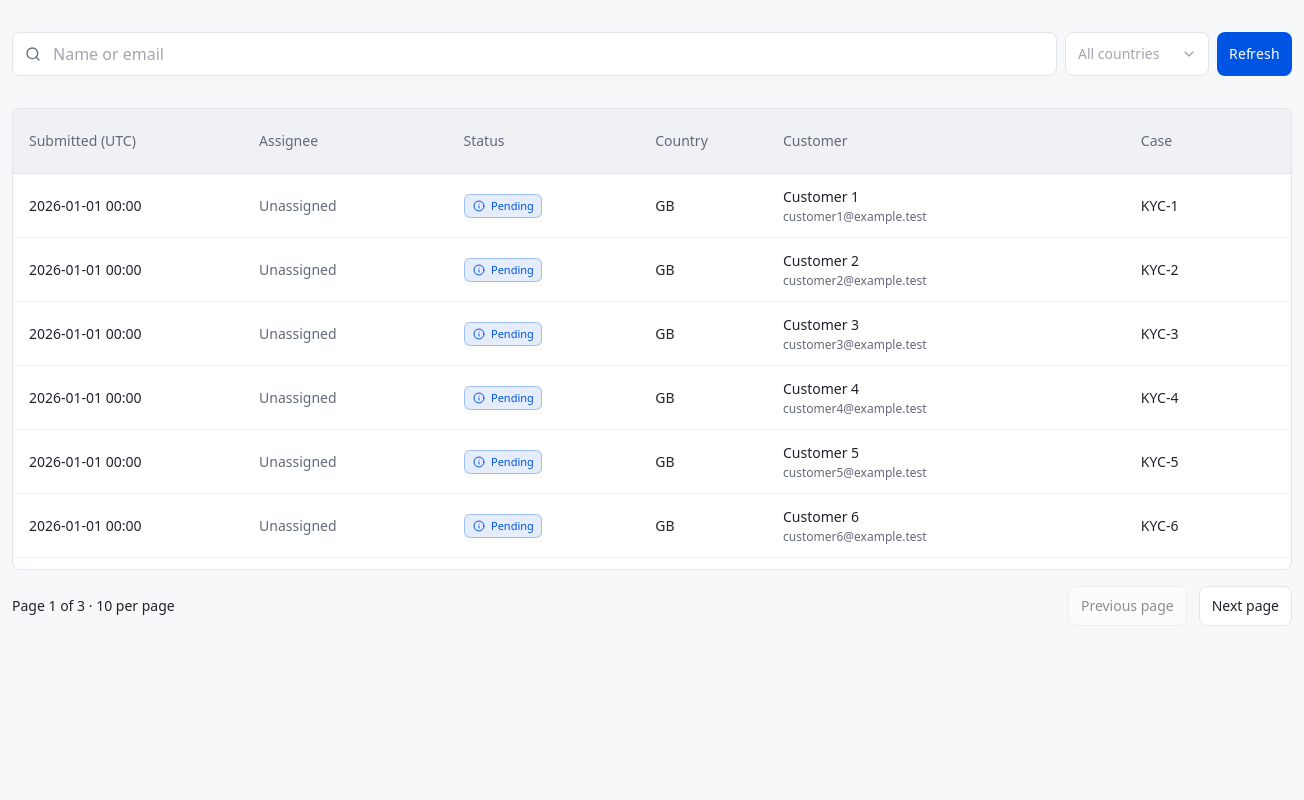
Test: configured queue composition › resets pagination on filtering and handles an empty result without an invalid page
Click the button "Next page" at (1245, 606), box [1199,586,1292,626]
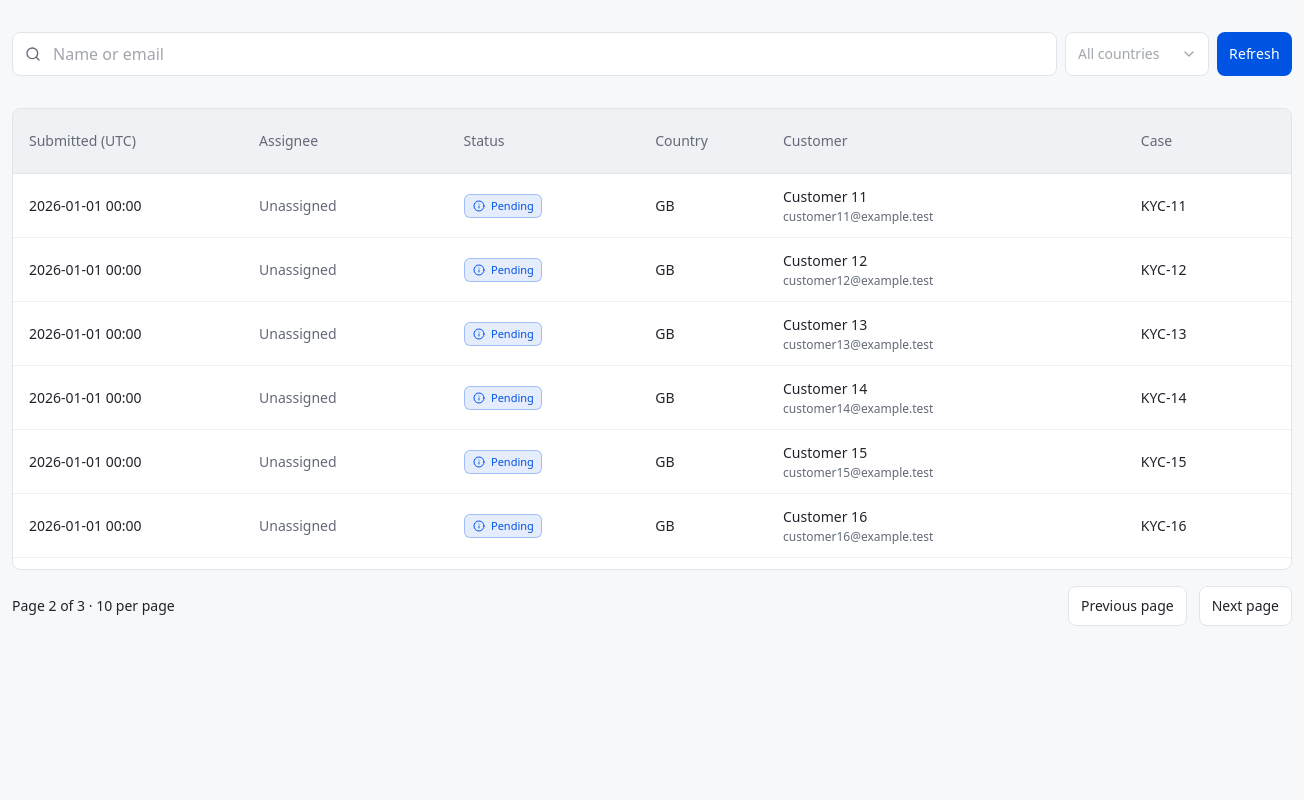
Select "GB" in the dropdown named "Country" at (1137, 54), box [1065,32,1209,76]
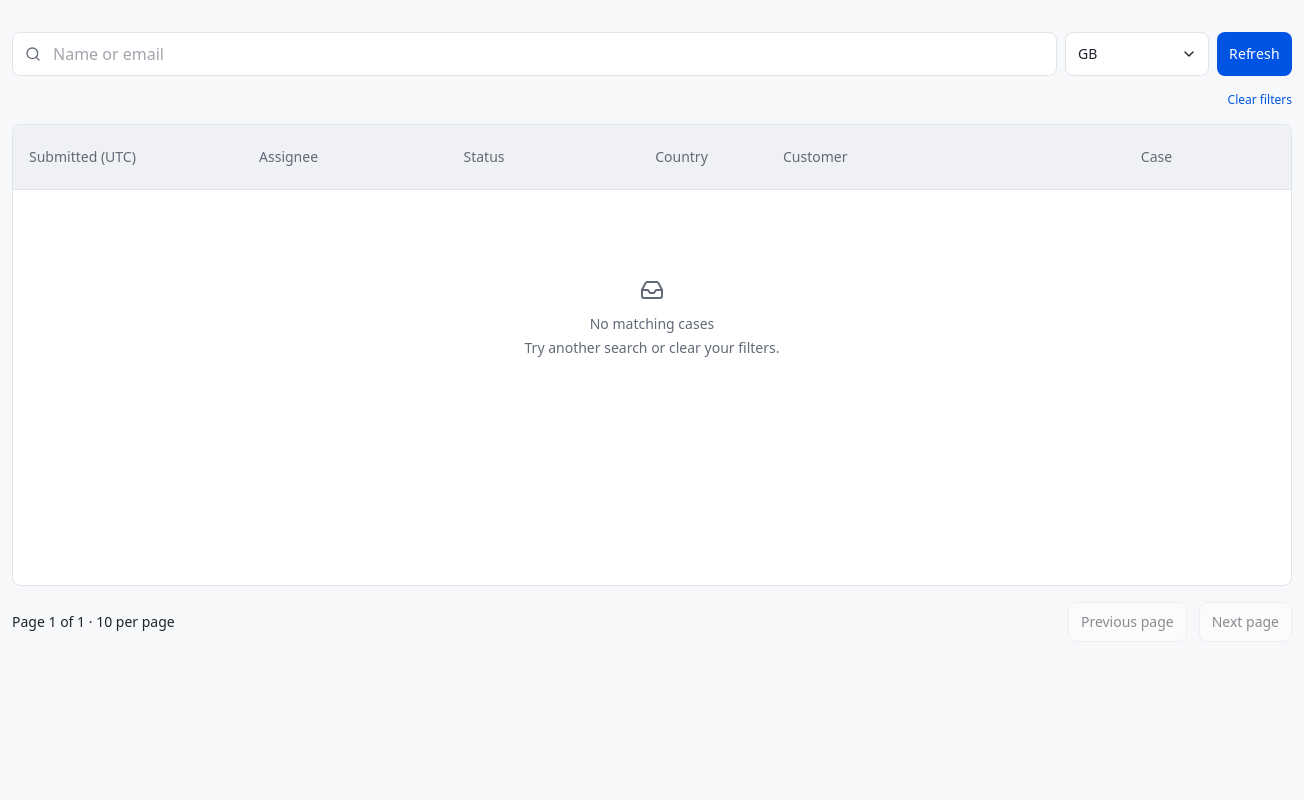
Now the text "Page 1 of 1 · 10 per page" is shown, box [12,612,175,632]
Now the button "Previous page" is disabled, box [1068,602,1187,642]
Now the button "Next page" is disabled, box [1199,602,1292,642]
